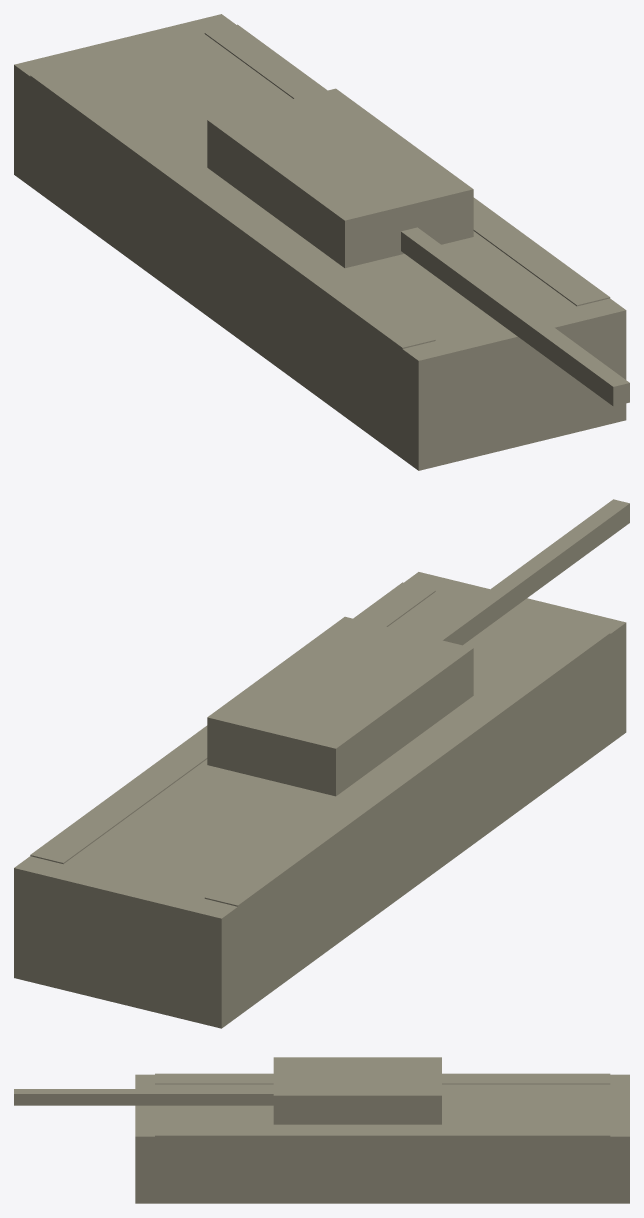
Rendered from nebelwerfer.glb.
3 views of the same model, one above another, from view 1: azimuth 30°, elevation 25°; view 2: azimuth 150°, elevation 25°; view 3: azimuth 270°, elevation 25° (orthographic). The views are drawn at different scales.
Parts seen in each view (by area): view 1: Hull, Track_L, Turret, Gun, Track_R; view 2: Hull, Track_L, Turret, Track_R, Gun; view 3: Hull, Track_R, Turret, Gun, Track_L.
Part boxes in pixels (x1,y1,x2,y2): Hull: (14,14,626,470); Track_L: (30,67,435,401); Turret: (207,88,473,268); Gun: (401,227,629,406); Track_R: (204,24,610,306); Hull: (14,572,626,1028); Track_L: (204,625,610,958); Turret: (207,616,473,796); Track_R: (30,582,435,864); Gun: (426,499,629,645); Hull: (135,1074,629,1203); Track_R: (155,1126,610,1168); Turret: (273,1057,441,1124); Gun: (14,1089,273,1105); Track_L: (155,1073,610,1084).
Size of the model in its own units: 1.6 by 1.16 by 6.72.
